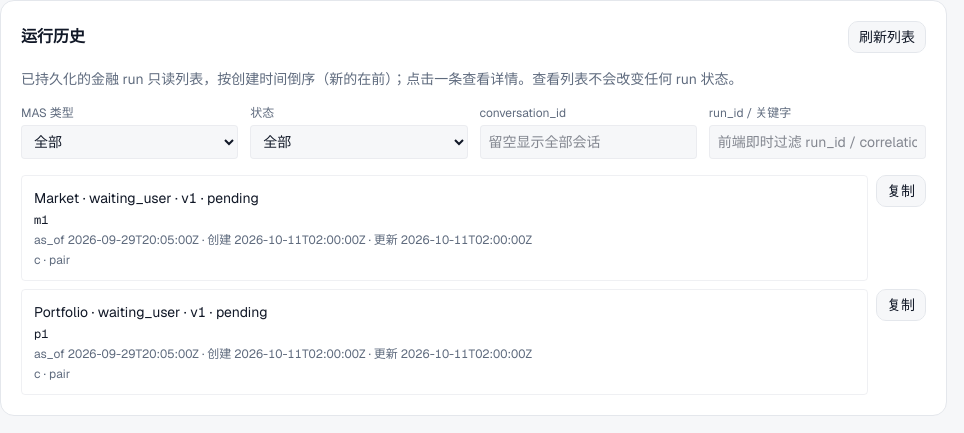
it: 金融 MAS 运行历史 › filters run_id/correlation keyword client-side and shows the filtered empty state
Expected: the text "m1" is shown, [34,212,48,228]
Type "p1" into the field named "按 run_id 或 correlation_id 搜索" at (817, 142), box [709,125,926,159]
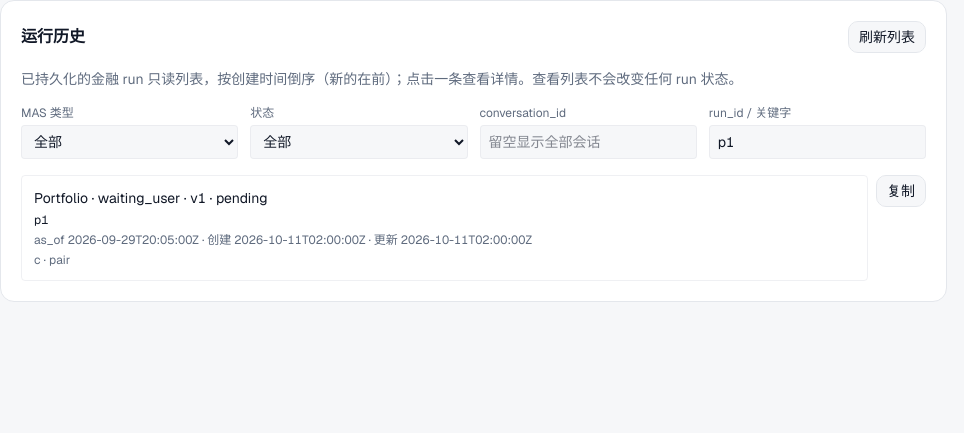
Expected: the text "p1" is shown, [34,212,48,228]
Now the button "m1" is gone
Replace the text in the field named "按 run_id 或 correlation_id 搜索" with "zzz" at (817, 142), box [709,125,926,159]
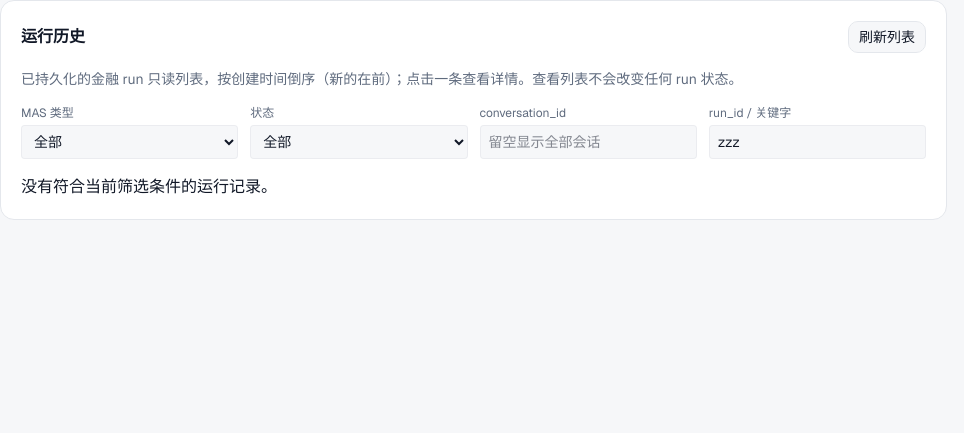
Now the text "没有符合当前筛选条件的运行记录。" is shown, box [21,176,277,197]
